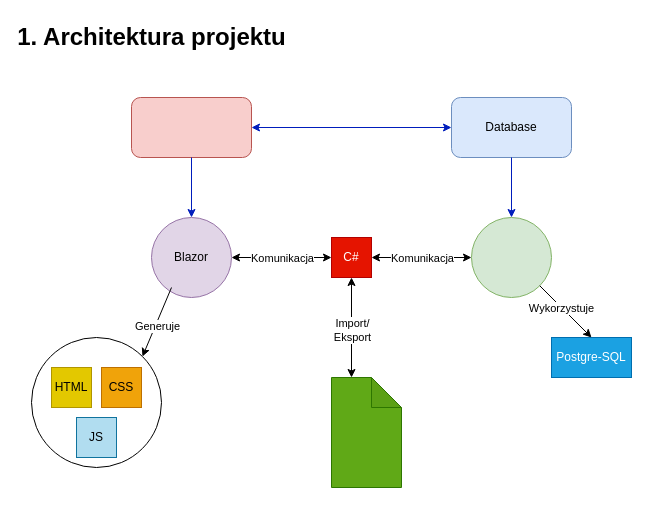
Some shapes in this 649 by 505 pixel diagram are drawn without their labels. The shapes that lost their labels are listed below. From the top down, each one's centre as x and y in pixels, then its label:
At point (191, 127): "Front-end".
At point (511, 257): "Supabase".
At point (366, 432): ".csv".
